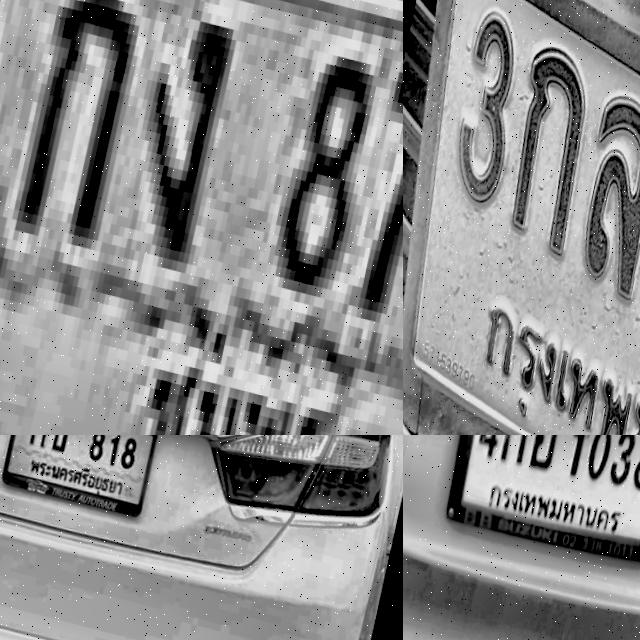license-plate: (0, 0, 403, 435), (403, 0, 640, 435), (438, 435, 640, 565), (0, 435, 161, 515)
